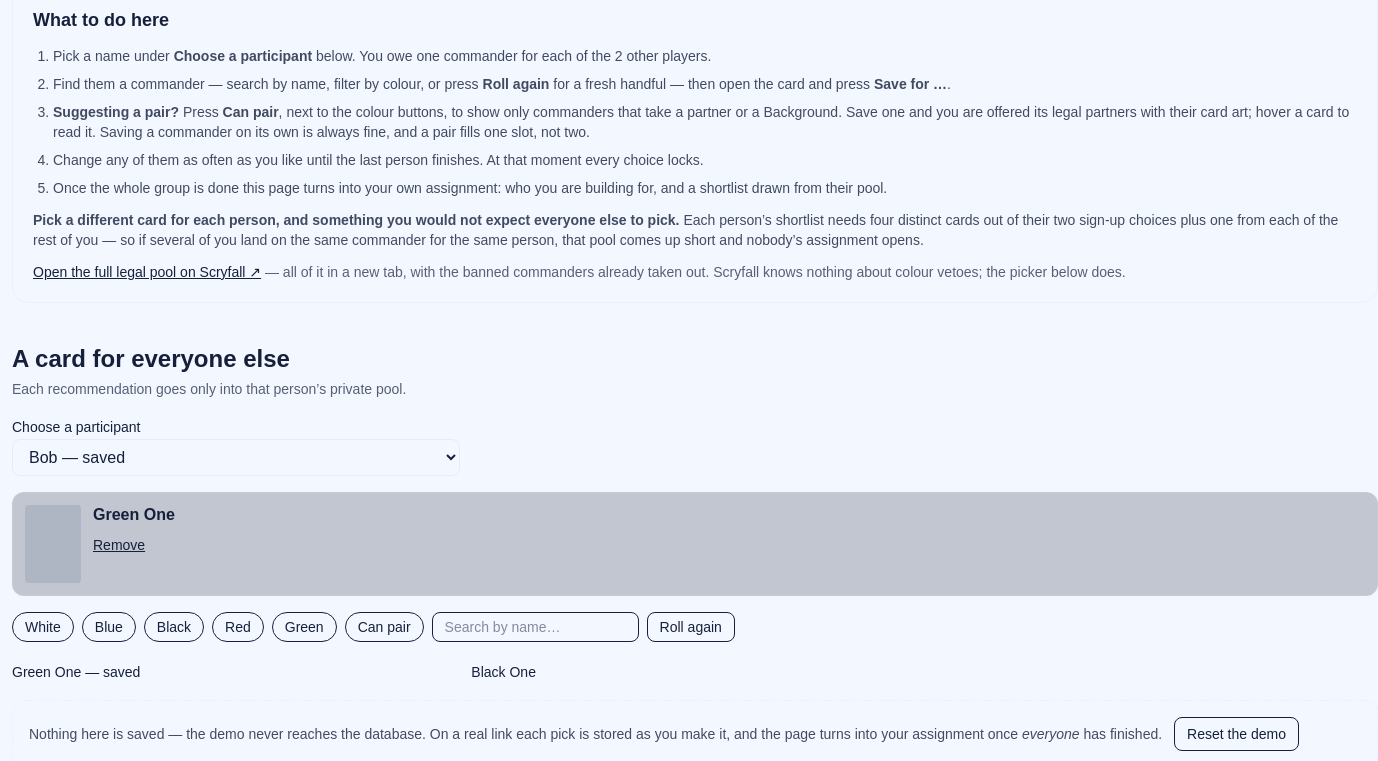
it: DemoCardWorkshop › removes a saved pick and the count follows
The image size is (1378, 761).
(page scrolled)
Click the button "Remove" at (119, 545), box x1=93 y1=535 x2=145 y2=555
(page scrolled)
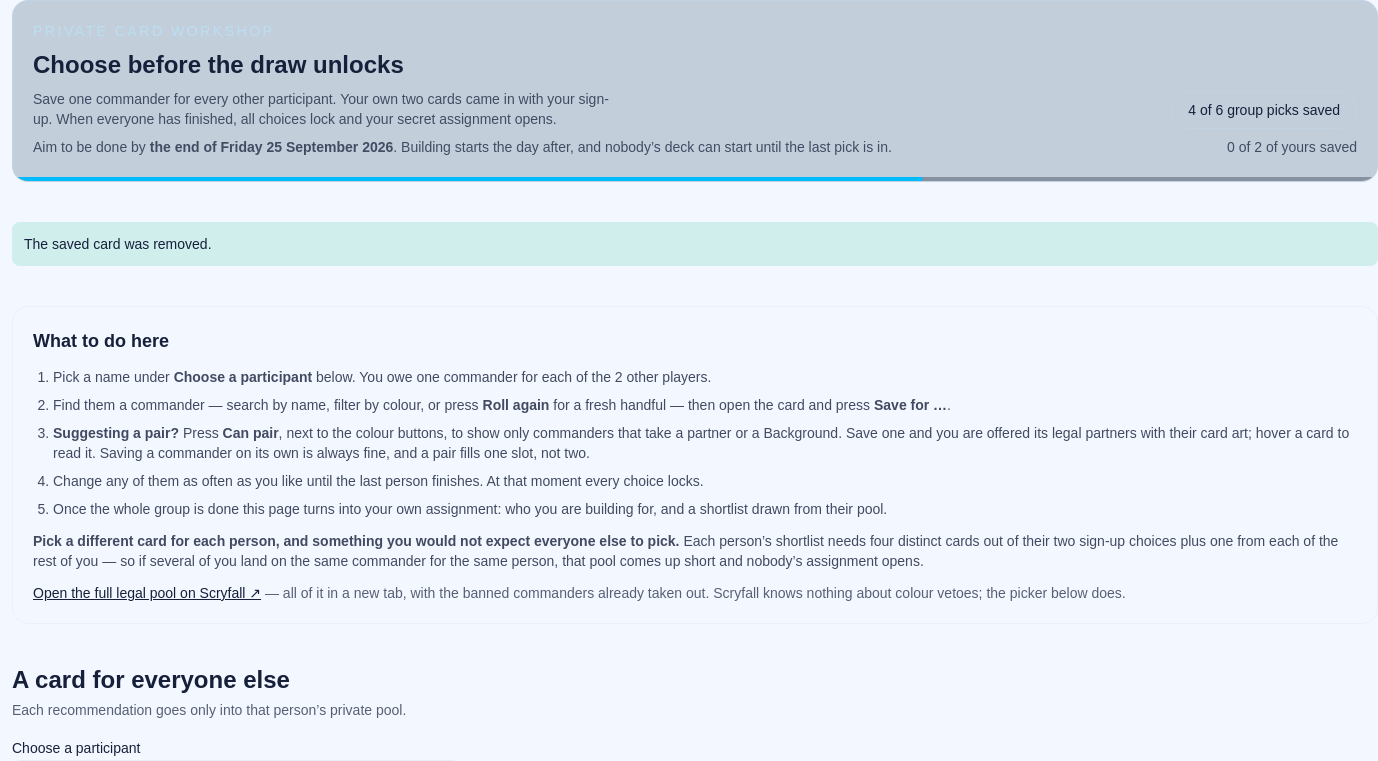
expect the text "4 of 6 group picks saved" is shown: met, box x1=1171 y1=91 x2=1357 y2=129
